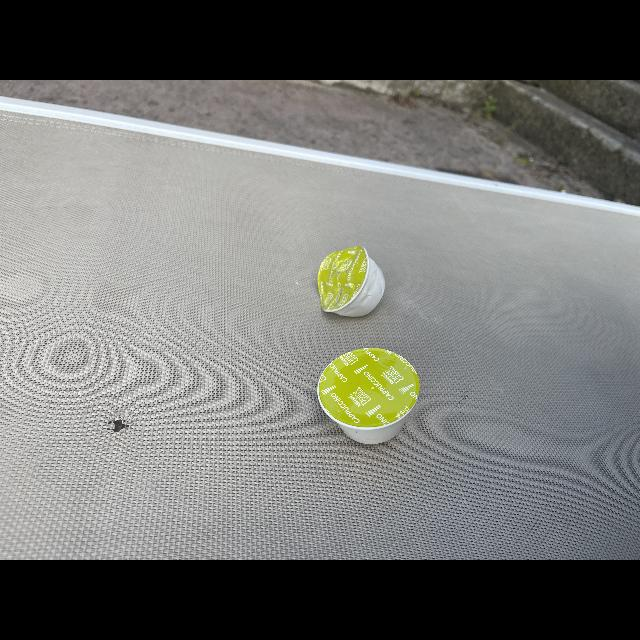damaged_capsule: (314, 242, 390, 321)
intact_capsule: (314, 344, 424, 448)
